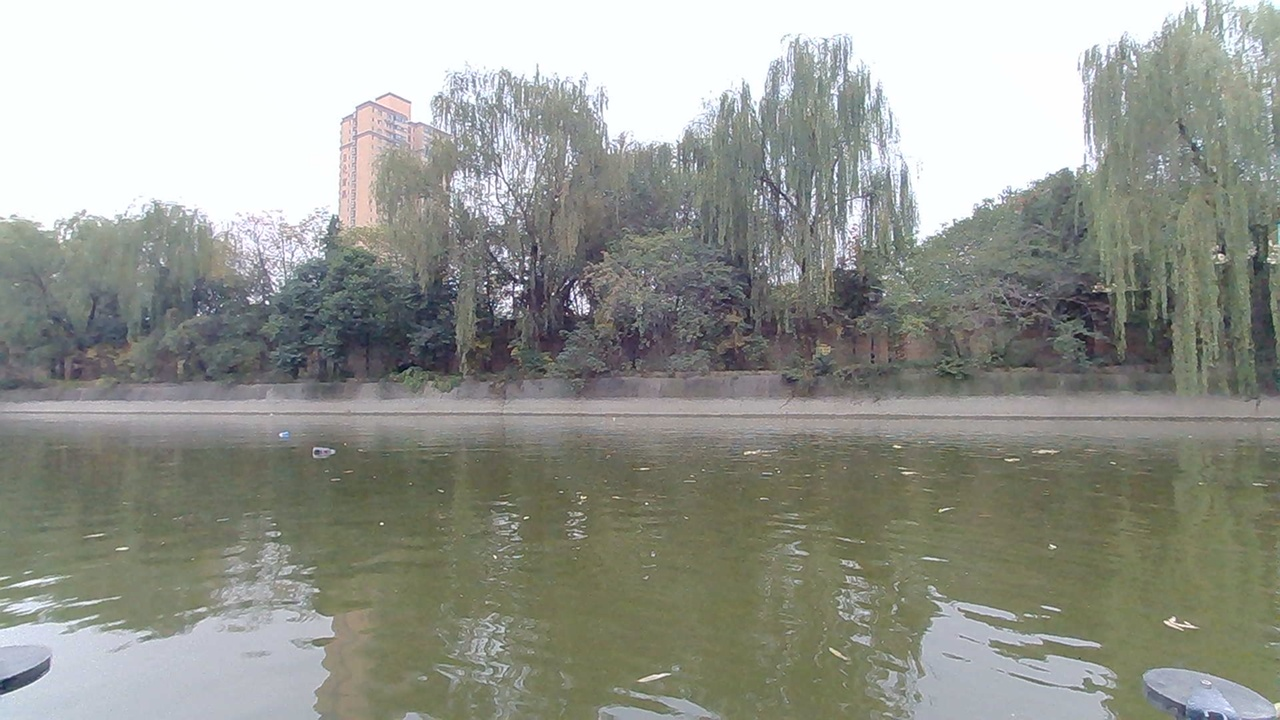bottle: (302, 429, 346, 457), (270, 422, 303, 446)
